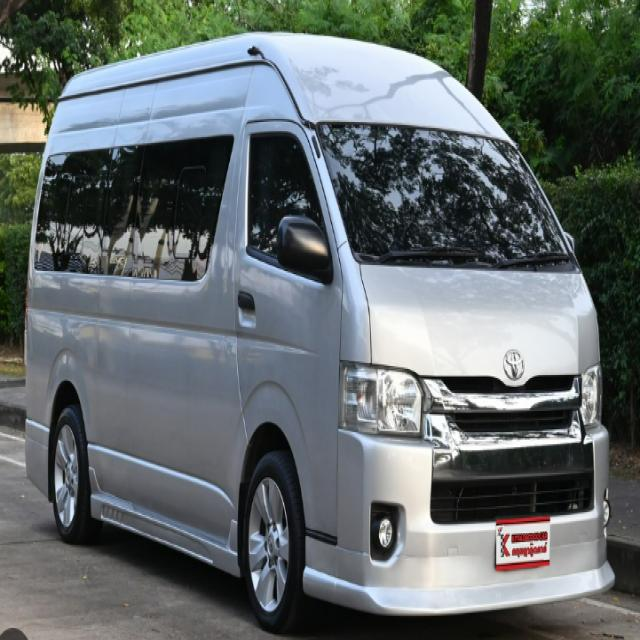van: (0, 36, 614, 600)
